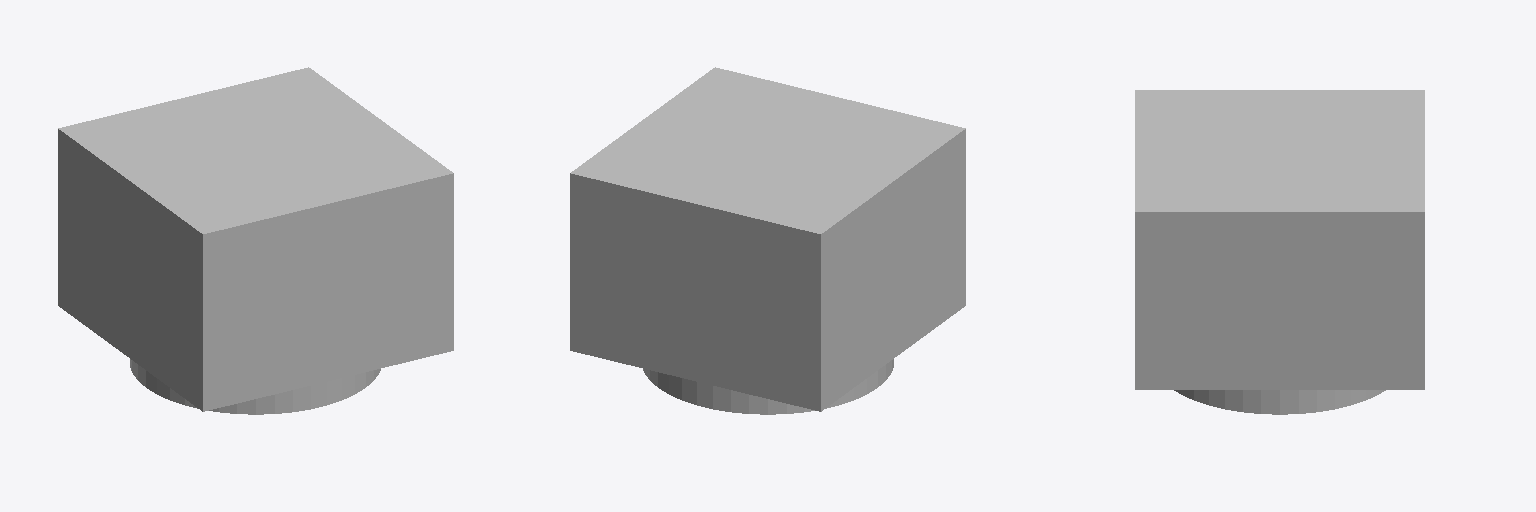
Rendered from 180709 LegA.obj.
3 views of the same model, side by side, from view 1: azimuth 30°, elevation 25°; view 2: azimuth 150°, elevation 25°; view 3: azimuth 270°, elevation 25° (orthographic).
Bounding box in the file's own units: 0.08 × 0.064 × 0.08.